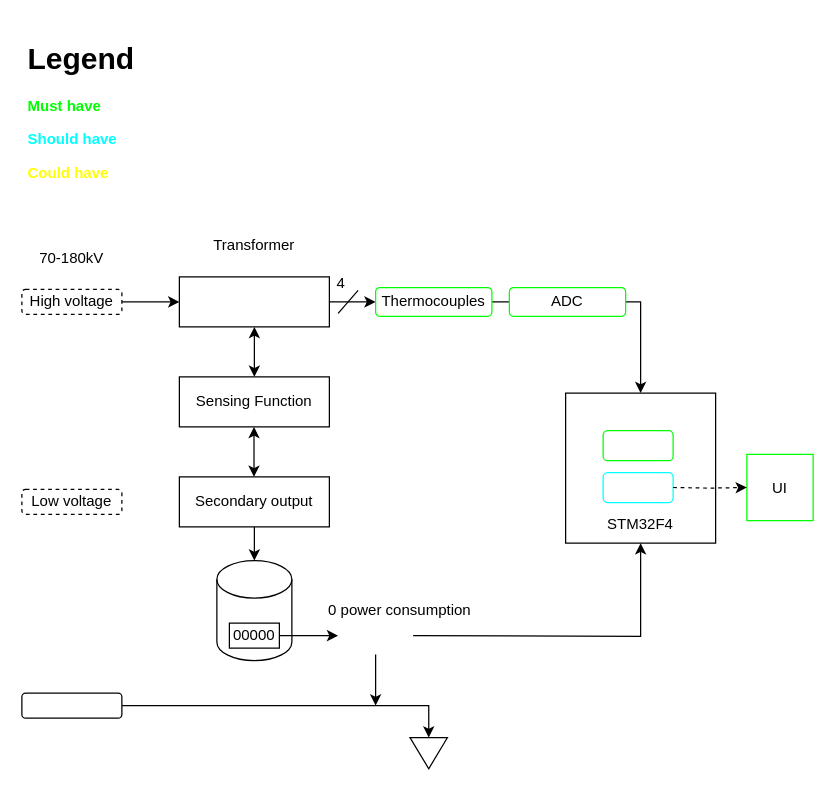
This 835x790 diagram has some shape labels left out. The shapes that lost their labels are listed below. From the top down, each one's centre as x and y in pixels, then its label:
At point 253,301: "HV-connection".
At point 637,445: "SPI".
At point 637,486: "Uart".
At point 71,705: "Earth, ground".
